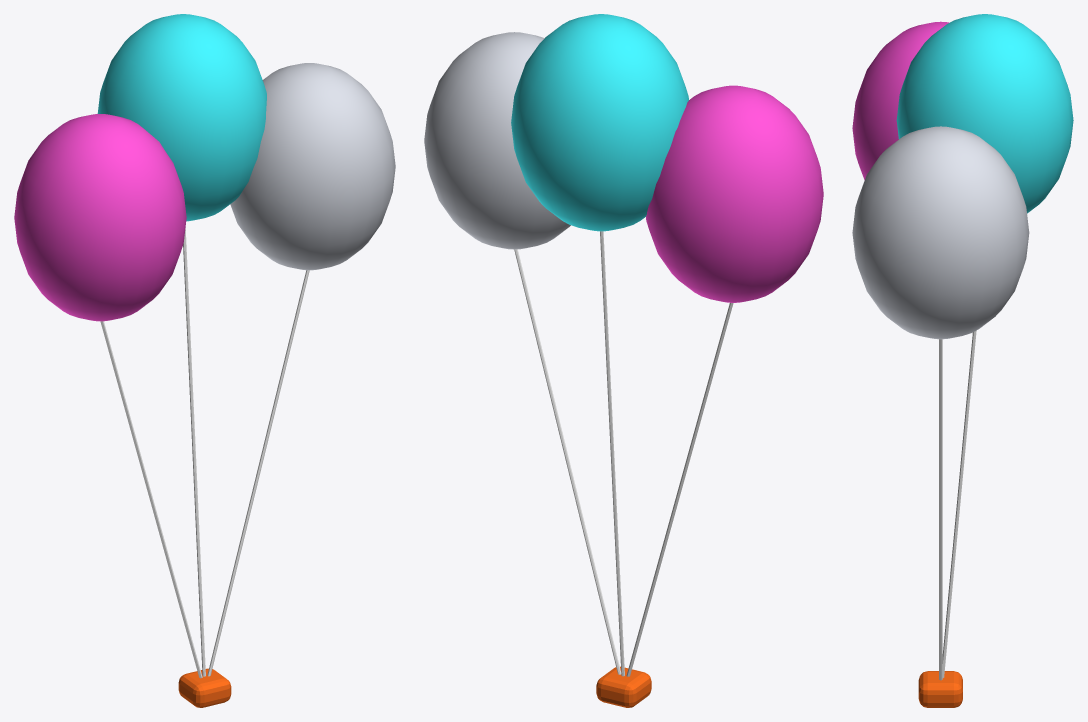
File: Deco_Balloons.fbx
3 views of the same model, side by side, from view 1: azimuth 30°, elevation 25°; view 2: azimuth 150°, elevation 25°; view 3: azimuth 270°, elevation 25° (orthographic). The views are drawn at different scales.
Visible parts, largest first — view 1: Deco_Balloons; view 2: Deco_Balloons; view 3: Deco_Balloons.
Boxes of the visible parts, x1=… form: Deco_Balloons: x1=14, y1=14, x2=395, y2=707; Deco_Balloons: x1=424, y1=14, x2=823, y2=707; Deco_Balloons: x1=852, y1=14, x2=1073, y2=707.
Size of the model in its own units: 0.96 by 1.7 by 0.5.
